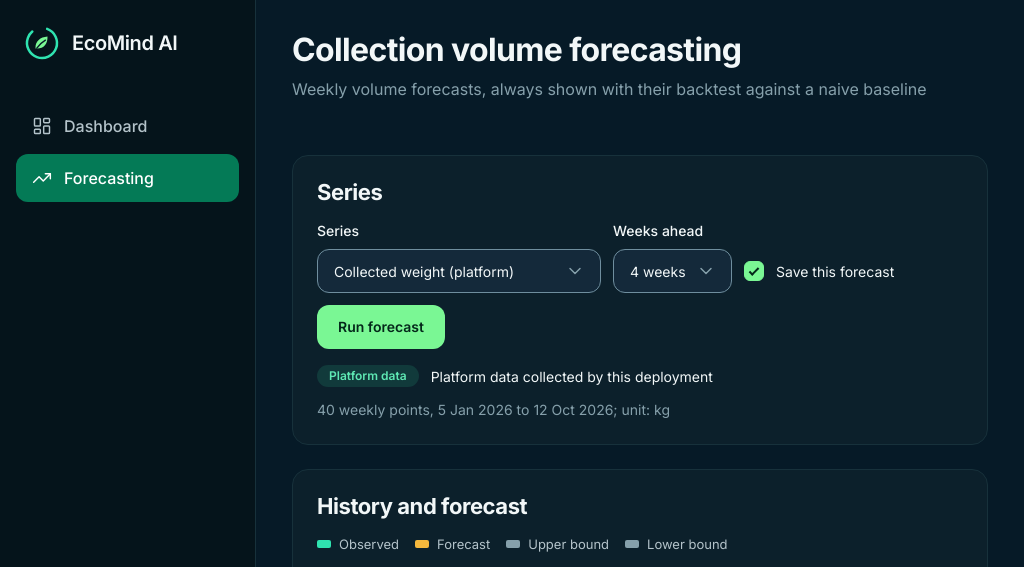
Test: forecasting page › shows the server reason when the series has too little history
Click the button "Run forecast". click: coordinates (381, 327)
box: [317,305,445,349]
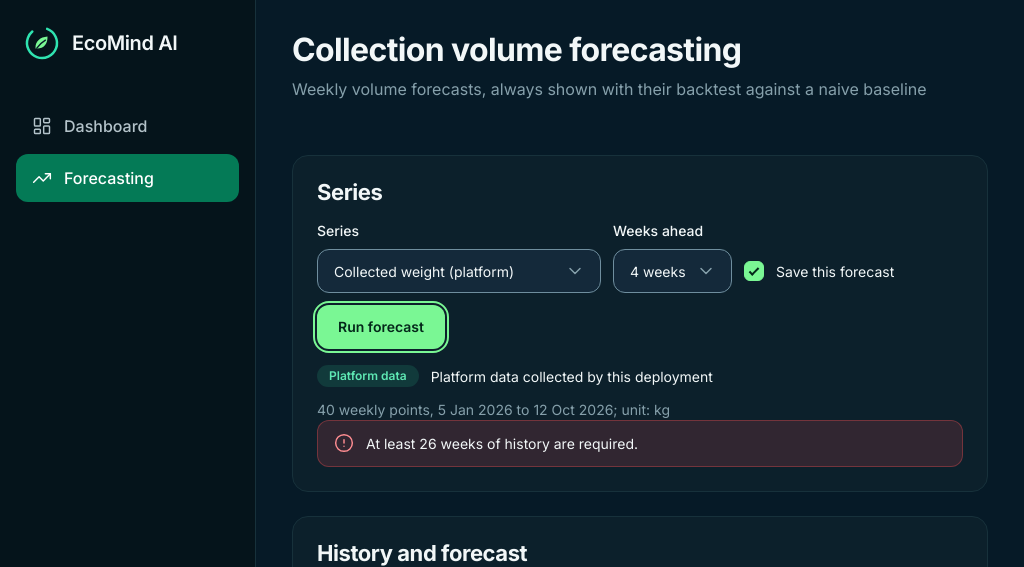
Expected: the text "At least 26 weeks of history are required." is shown, [366,433,638,454]
